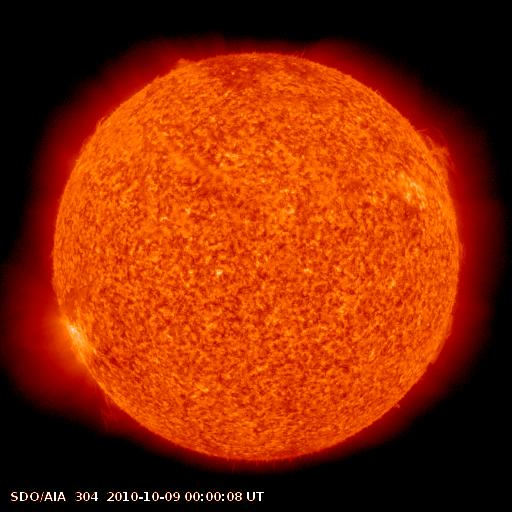prominence: (410, 119, 462, 191), (93, 390, 149, 442), (423, 311, 459, 376), (75, 108, 108, 166), (147, 53, 210, 81), (451, 236, 482, 274)
